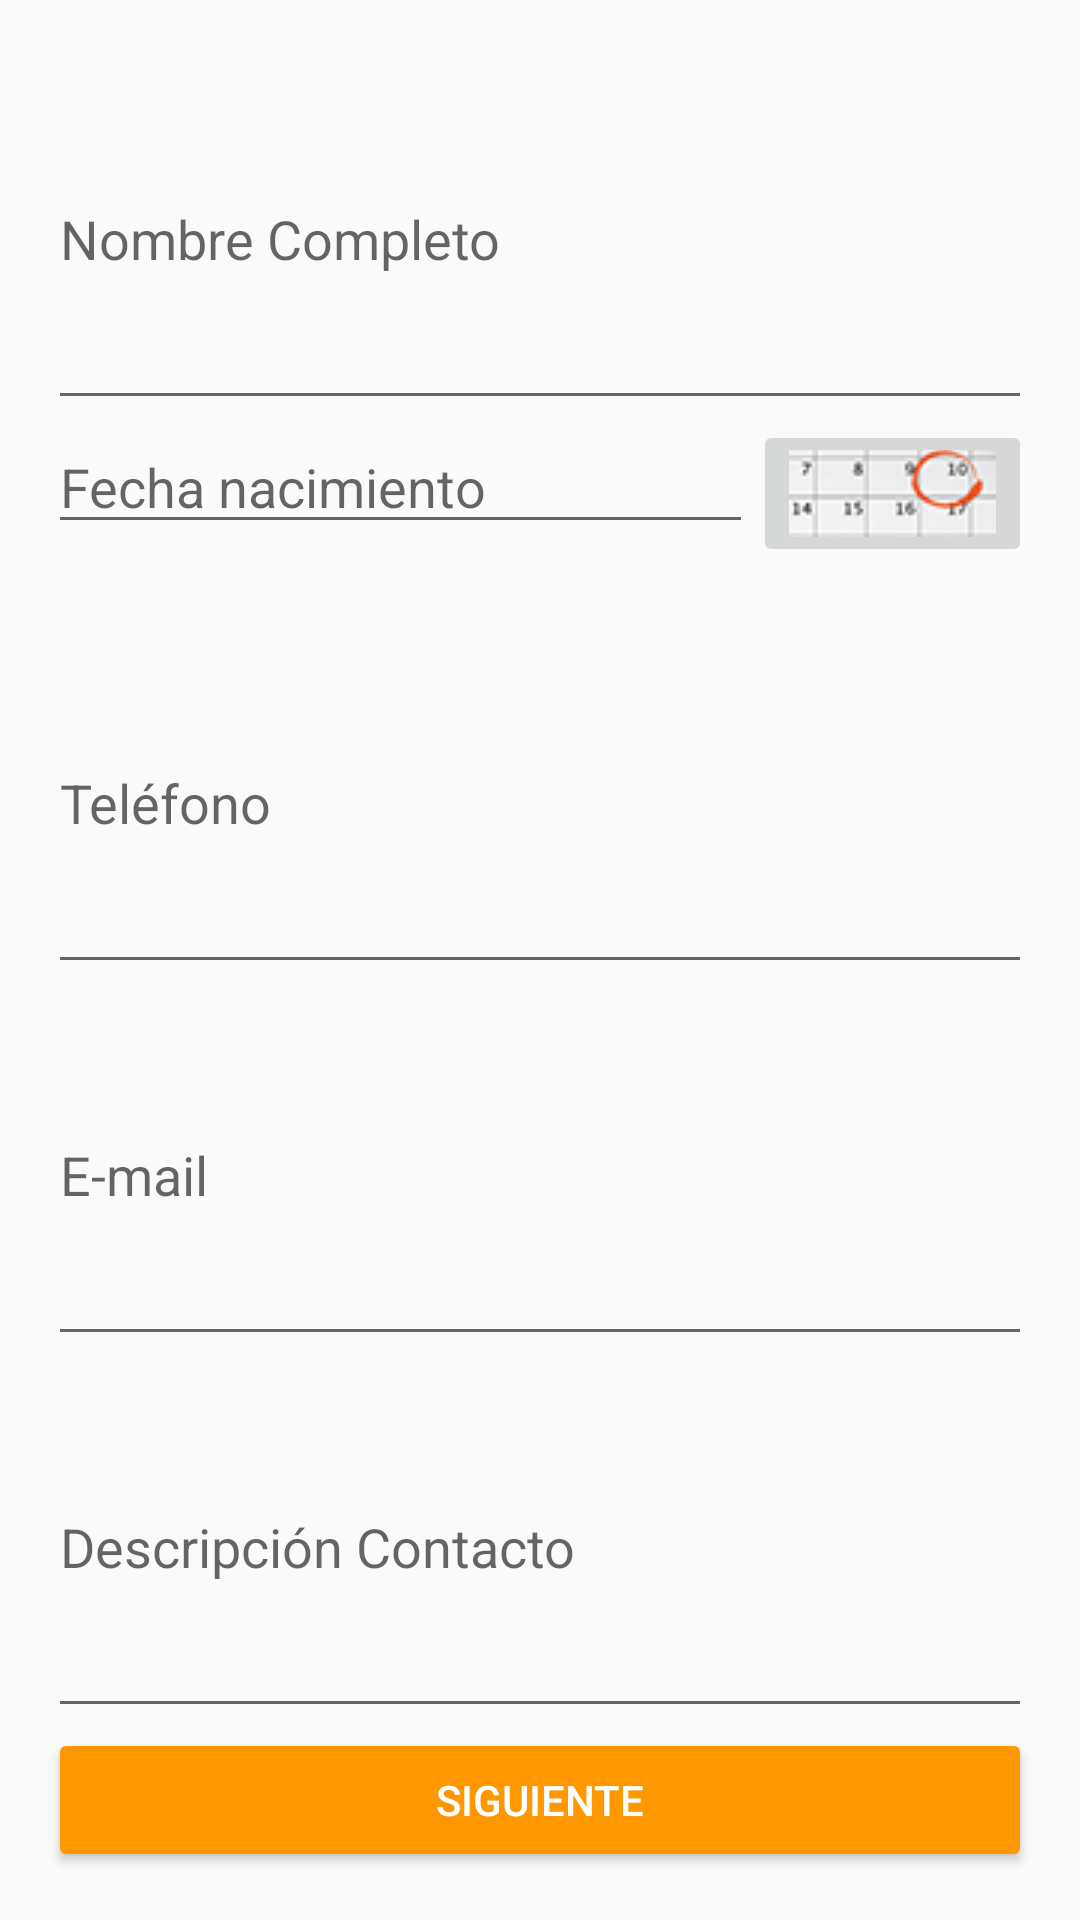

Point at icon controls on the screen. Image size 1080px×1920px, points as (x,y).
Seleccionar la fecha de nacimiento: (892,493)
